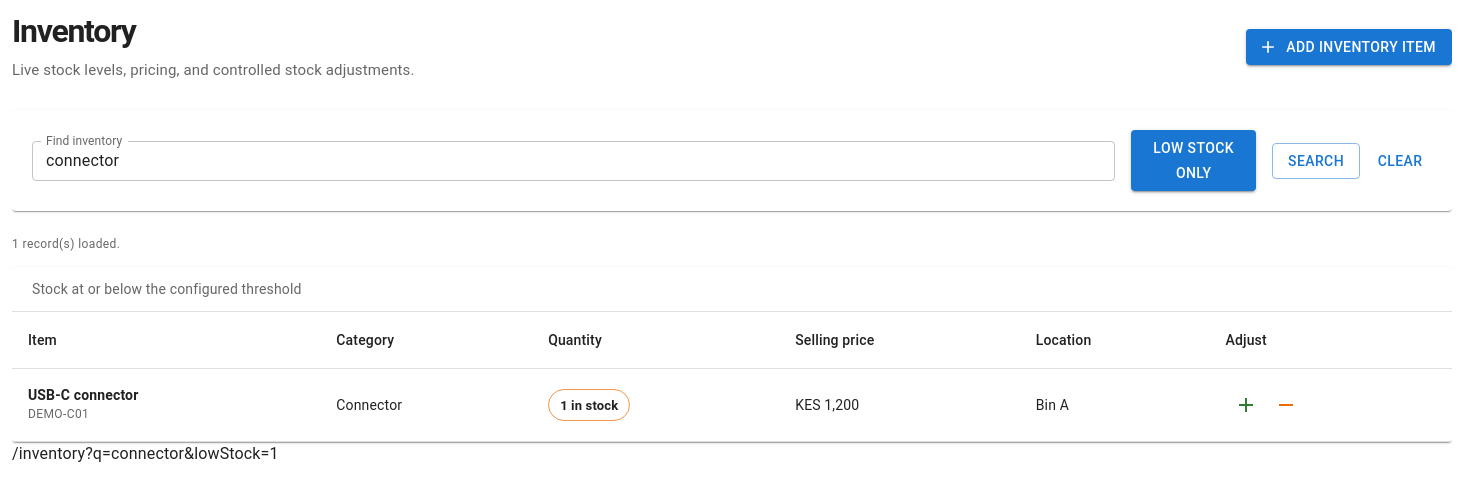
Scenario: permission-accurate operational directories › uses the supported stock search/filter and preserves the stock filter when clearing search
Expected: the text "USB-C connector" is shown, [28, 387, 138, 403]
Click the button "Clear" at (1400, 161), box [1368, 143, 1432, 179]
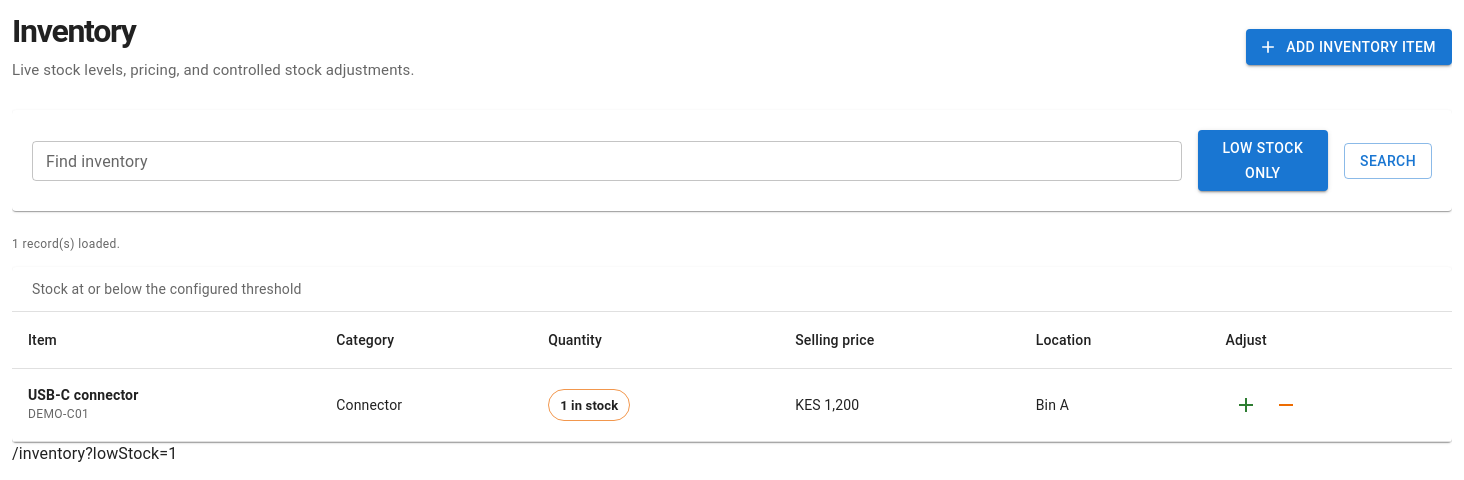
Now the text with test id "current-path" reads "/inventory?lowStock=1", box [12, 444, 177, 463]
